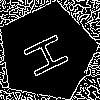H: (22, 27, 79, 80)
